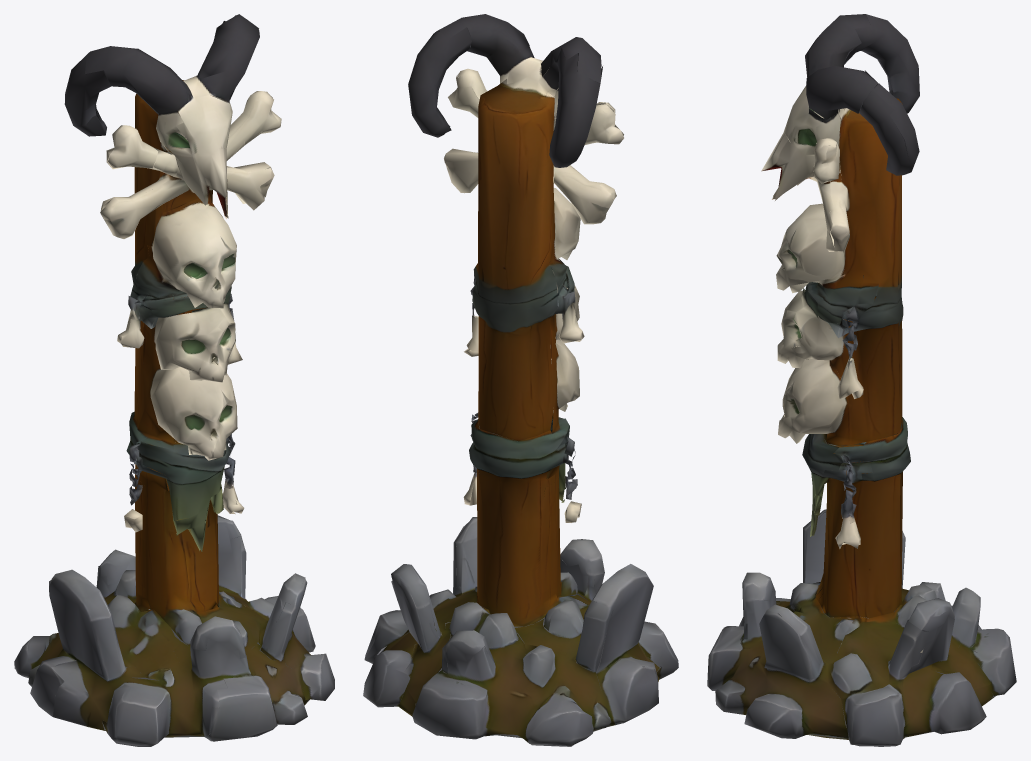
The model's file is bone_totem.glb.
3 views of the same model, side by side, from view 1: azimuth 30°, elevation 25°; view 2: azimuth 150°, elevation 25°; view 3: azimuth 270°, elevation 25° (orthographic).
Visible parts, largest first — view 1: model; view 2: model; view 3: model.
Part boxes in pixels (x1,y1,x2,y2): model: [14, 14, 334, 746]; model: [363, 14, 678, 746]; model: [707, 14, 1016, 746].
Bounding box in the file's own units: 0.8649 × 2 × 0.8723.
Materials: 1 (1 with a texture image).
